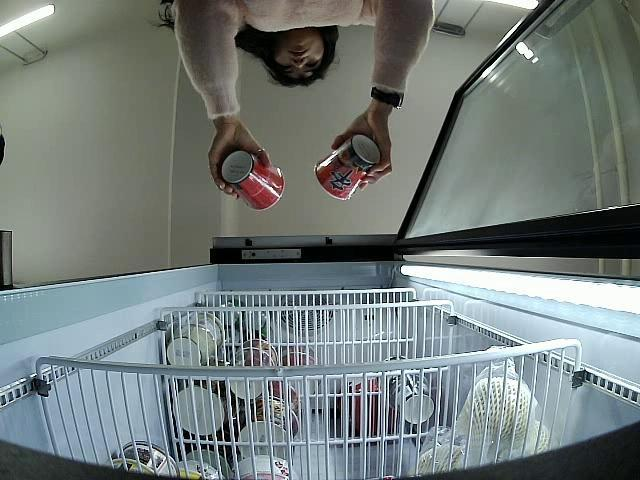02_shinRamen_S: (314, 133, 380, 200), (218, 150, 285, 212)
